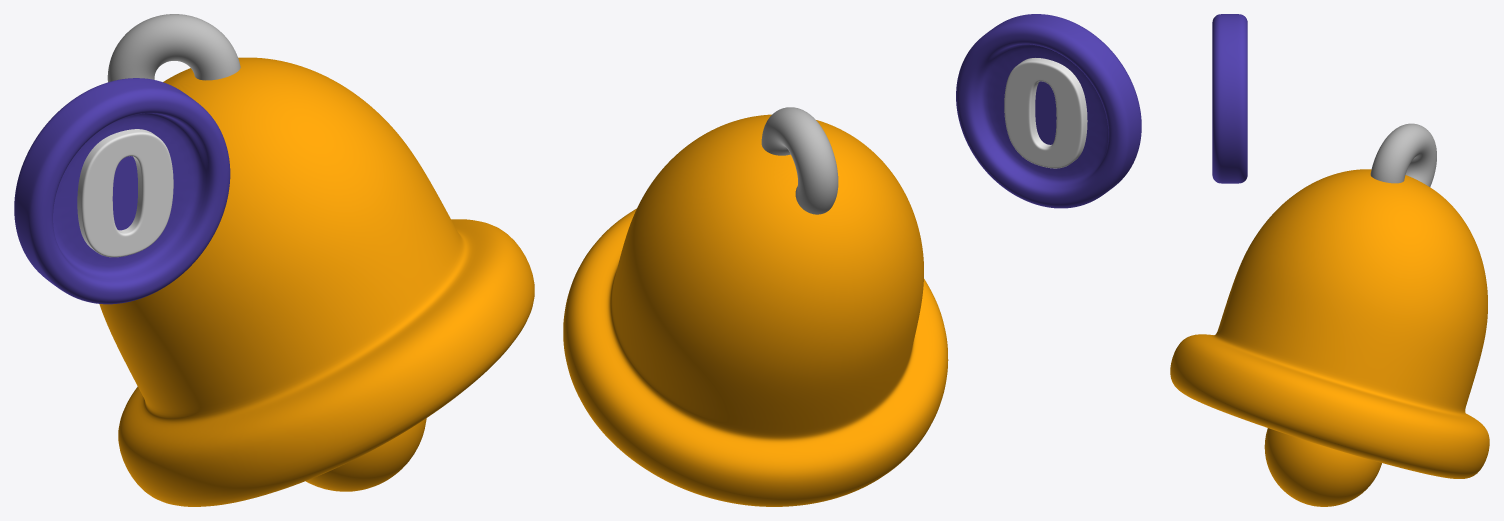
Rendered from no-notification-animated-3d-icon-113546215343.glb.
3 views of the same model, side by side, from view 1: azimuth 30°, elevation 25°; view 2: azimuth 150°, elevation 25°; view 3: azimuth 270°, elevation 25° (orthographic). The views are drawn at different scales.
Visible parts, largest first — view 1: Base, Base.001, Zero, Hook, Bell; view 2: Base, Base.001, Zero, Hook; view 3: Base, Base.001, Bell, Hook.
Part boxes in pixels (bbox=[...]): Base: bbox=[99, 57, 534, 506]; Base.001: bbox=[14, 78, 230, 304]; Zero: bbox=[77, 129, 173, 257]; Hook: bbox=[107, 14, 240, 82]; Bell: bbox=[306, 418, 426, 491]; Base: bbox=[563, 114, 948, 506]; Base.001: bbox=[956, 14, 1141, 208]; Zero: bbox=[1004, 58, 1087, 168]; Hook: bbox=[761, 107, 838, 214]; Base: bbox=[1170, 169, 1489, 478]; Base.001: bbox=[1212, 14, 1247, 183]; Bell: bbox=[1264, 428, 1381, 506]; Hook: bbox=[1370, 123, 1436, 186].
Size of the model in its own units: 2.24 by 1.97 by 1.51.
